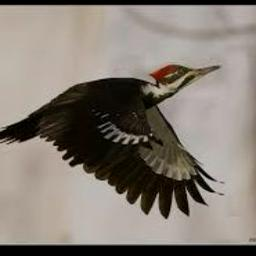Woodpecker: (0, 64, 226, 219)
